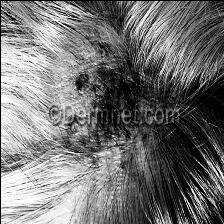Potentially Malignant Skin Tumors: (74, 69, 138, 108)
